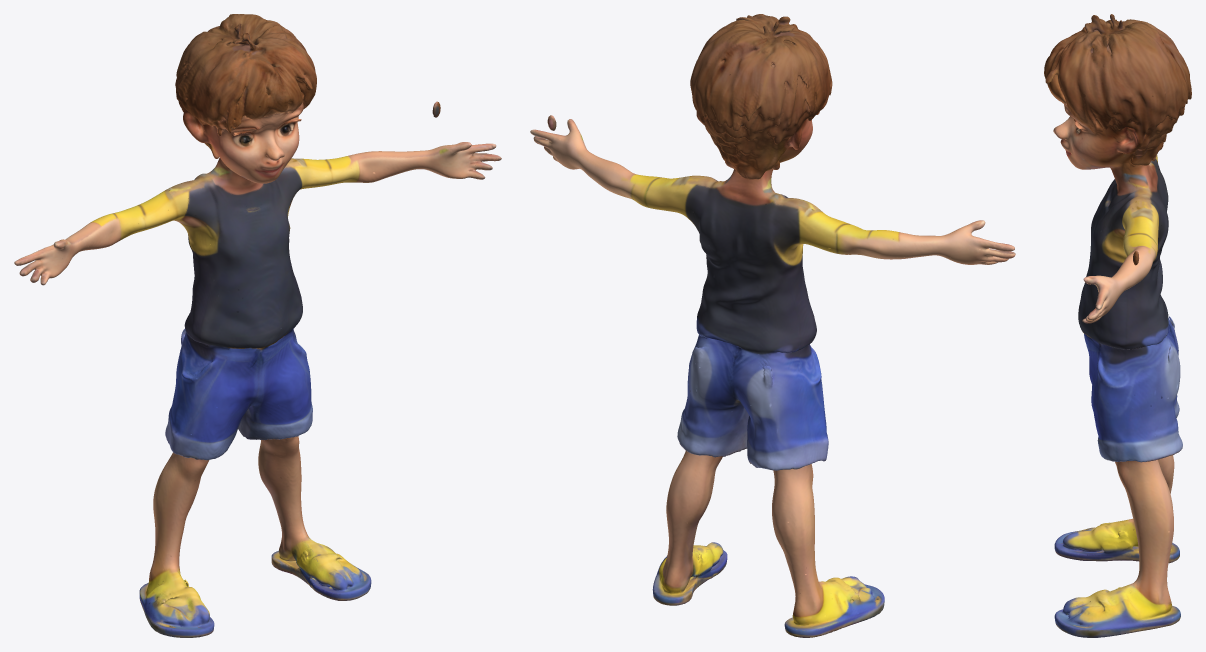
Rendered from A_highly_detailed_and_0902053940_texture.fbx.
3 views of the same model, side by side, from view 1: azimuth 30°, elevation 25°; view 2: azimuth 150°, elevation 25°; view 3: azimuth 270°, elevation 25° (orthographic).
Parts seen in each view (by area): view 1: Mesh_0.001; view 2: Mesh_0.001; view 3: Mesh_0.001.
Boxes of the visible parts, x1=… form: Mesh_0.001: x1=14, y1=14, x2=501, y2=637; Mesh_0.001: x1=530, y1=14, x2=1015, y2=637; Mesh_0.001: x1=1044, y1=14, x2=1191, y2=637.
Size of the model in its own units: 175 by 199 by 47.02.
Materials: 1 (1 with a texture image).
